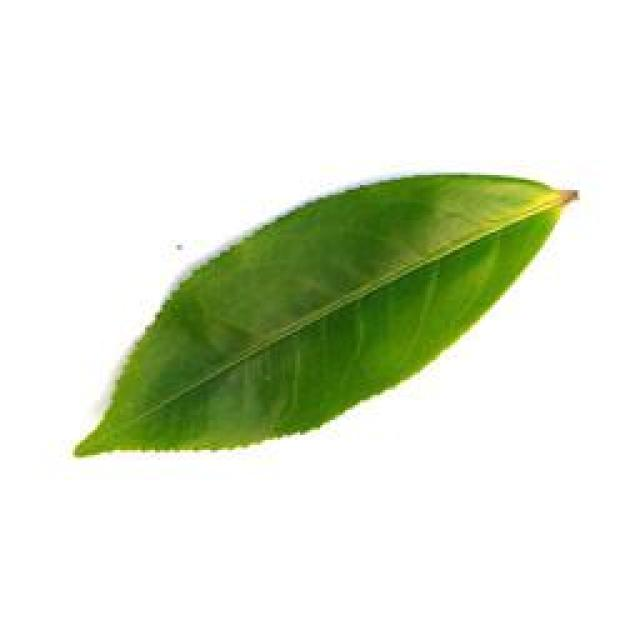Healthy: (68, 165, 584, 478)
